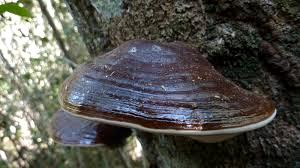Ganoderma - Fruit Body: (59, 36, 278, 130), (50, 129, 134, 149)
